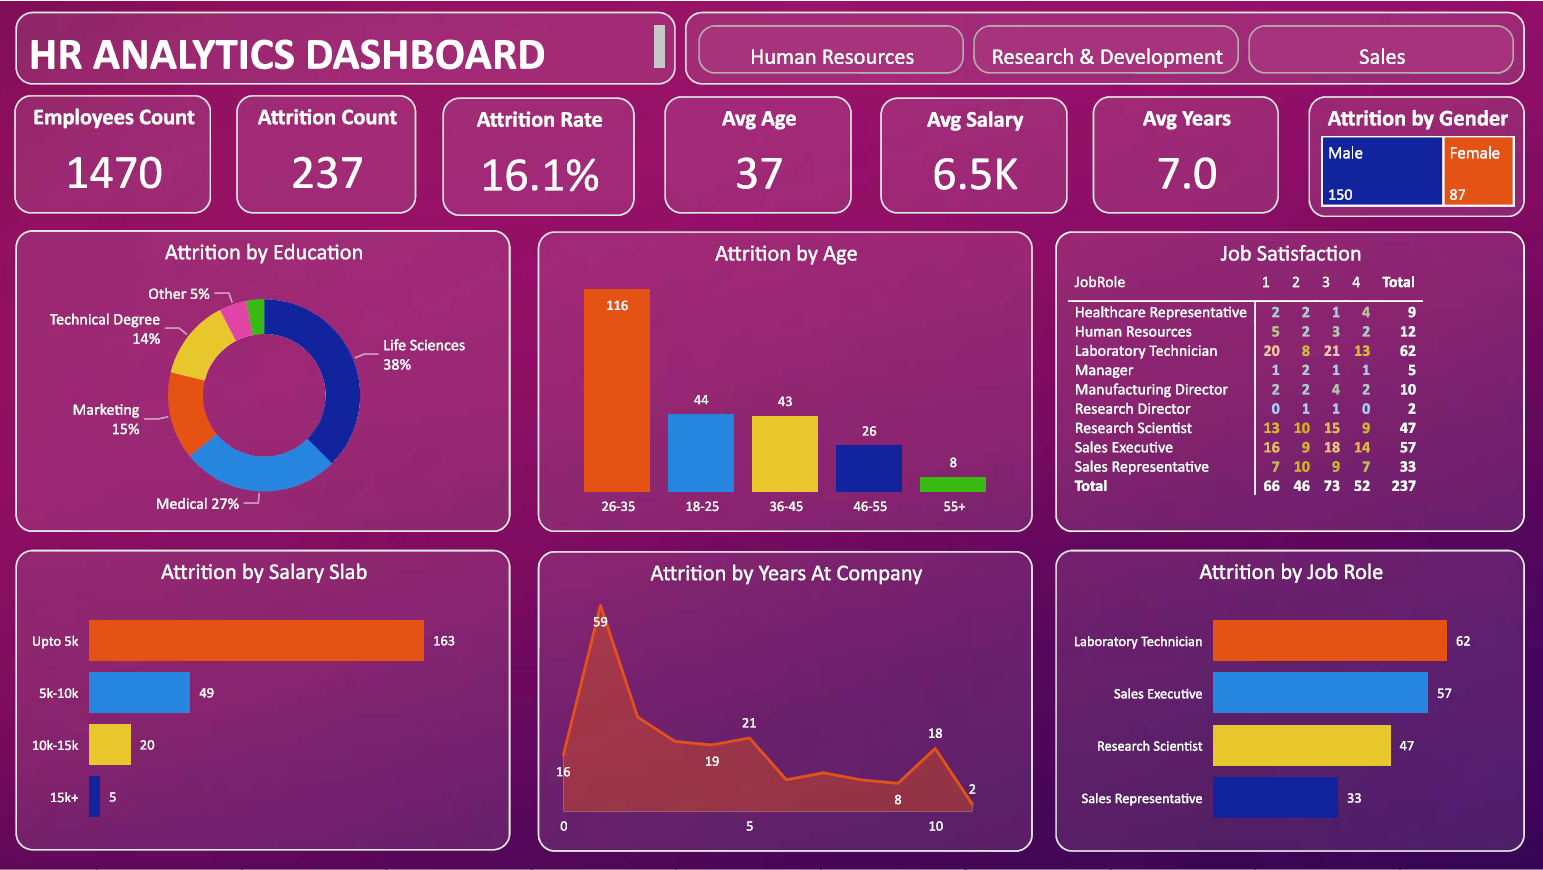

This screenshot's page, from the dashboard's own definition file:
{"tool":"powerbi","page":{"name":"Page 1","canvas":[1280,720],"ordinal":0},"visuals":[{"type":"card","title":"Employees Count","fields":{"Values":["CountNonNull(HR_Analytics.EmpID)"]},"box":[11.9,77.6,163.1,98.8],"z":0},{"type":"card","title":"Attrition Count","fields":{"Values":["Sum(HR_Analytics.AttritionCount)"]},"box":[196.4,77.6,148.8,98.8],"z":1000},{"type":"card","title":"Attrition Rate","fields":{"Values":["HR_Analytics.AttritionRate"]},"box":[366.7,80,159.5,97.6],"z":2000},{"type":"card","title":"Avg Age","fields":{"Values":["Avg(HR_Analytics.Age)"]},"box":[551.2,78.8,154.8,97.6],"z":3000},{"type":"card","title":"Avg Salary","fields":{"Values":["Avg(HR_Analytics.MonthlyIncome)"]},"box":[729.8,80,154.8,96.4],"z":4000},{"type":"card","title":"Avg Years","fields":{"Values":["Avg(HR_Analytics.YearsAtCompany)"]},"box":[906,78.8,153.6,97.6],"z":5000},{"type":"donutChart","title":"Attrition by Education","fields":{"Category":["HR_Analytics.EducationField"],"Y":["Sum(HR_Analytics.AttritionCount)"]},"box":[13.1,189.5,409.5,250],"z":6000},{"type":"columnChart","title":"Attrition by Age","fields":{"Category":["HR_Analytics.AgeGroup"],"Y":["Sum(HR_Analytics.AttritionCount)"]},"box":[446.4,190.7,409.5,248.8],"z":7000},{"type":"pivotTable","title":"Job Satisfaction","fields":{"Rows":["HR_Analytics.JobRole"],"Columns":["HR_Analytics.JobSatisfaction"],"Values":["Sum(HR_Analytics.AttritionCount)"]},"box":[875,190.7,389.3,248.8],"z":8000},{"type":"barChart","title":"Attrition by Salary Slab","fields":{"Category":["HR_Analytics.SalarySlab"],"Y":["Sum(HR_Analytics.AttritionCount)"]},"box":[13.1,455,409.5,248.8],"z":9000},{"type":"barChart","title":"Attrition by Job Role","fields":{"Y":["Sum(HR_Analytics.AttritionCount)"],"Category":["HR_Analytics.JobRole"]},"box":[875,455,389.3,250],"z":10000},{"type":"areaChart","title":"Attrition by Years At Company","fields":{"Category":["HR_Analytics.YearsAtCompany"],"Y":["Sum(HR_Analytics.AttritionCount)"]},"box":[446.4,456.2,409.5,248.8],"z":11000},{"type":"treemap","title":"Attrition by Gender","fields":{"Group":["HR_Analytics.Gender"],"Values":["Sum(HR_Analytics.AttritionCount)"]},"box":[1084.5,78.8,179.8,100],"z":12000},{"type":"textbox","box":[13.1,8.6,546.4,60.7],"z":13000},{"type":"advancedSlicerVisual","fields":{"Values":["HR_Analytics.Department"]},"box":[567.9,8.6,696.4,60.7],"z":14000}]}

Visuals, with their boxes in screenshot pixels (x1, y1, x2, y2), scaled from the page's 1280x720 canvas onto the 1543x870 screenshot:
"Employees Count" card: {"left": 14, "top": 94, "right": 211, "bottom": 213}
"Attrition Count" card: {"left": 237, "top": 94, "right": 416, "bottom": 213}
"Attrition Rate" card: {"left": 442, "top": 97, "right": 634, "bottom": 215}
"Avg Age" card: {"left": 664, "top": 95, "right": 851, "bottom": 213}
"Avg Salary" card: {"left": 880, "top": 97, "right": 1066, "bottom": 213}
"Avg Years" card: {"left": 1092, "top": 95, "right": 1277, "bottom": 213}
"Attrition by Education" donutChart: {"left": 16, "top": 229, "right": 509, "bottom": 531}
"Attrition by Age" columnChart: {"left": 538, "top": 230, "right": 1032, "bottom": 531}
"Job Satisfaction" pivotTable: {"left": 1055, "top": 230, "right": 1524, "bottom": 531}
"Attrition by Salary Slab" barChart: {"left": 16, "top": 550, "right": 509, "bottom": 850}
"Attrition by Job Role" barChart: {"left": 1055, "top": 550, "right": 1524, "bottom": 852}
"Attrition by Years At Company" areaChart: {"left": 538, "top": 551, "right": 1032, "bottom": 852}
"Attrition by Gender" treemap: {"left": 1307, "top": 95, "right": 1524, "bottom": 216}
textbox: {"left": 16, "top": 10, "right": 674, "bottom": 84}
advancedSlicerVisual - HR_Analytics.Department: {"left": 685, "top": 10, "right": 1524, "bottom": 84}
